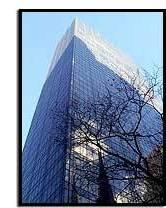building: (22, 17, 164, 203)
